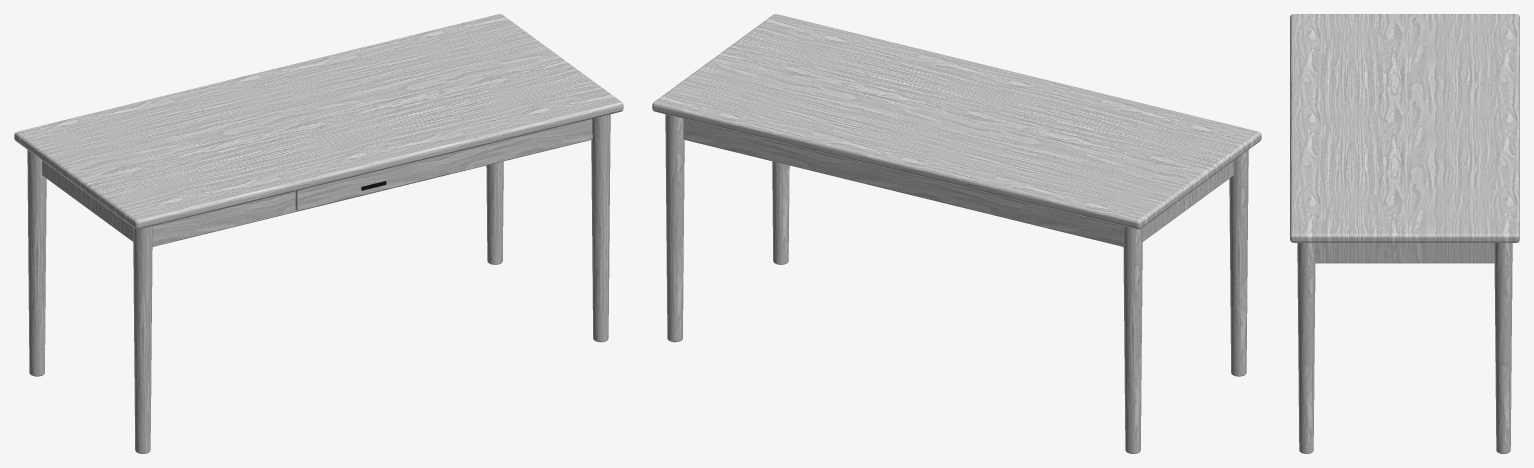
Rendered from desk-1.6m.gltf.
The picture shows the model from 3 angles, left to right: view 1: azimuth 30°, elevation 25°; view 2: azimuth 150°, elevation 25°; view 3: azimuth 270°, elevation 25°; orthographic projection. The views are drawn at different scales.
Parts seen in each view (by area): view 1: desk; view 2: desk; view 3: desk.
Boxes of the visible parts, left/top/right/bottom form: desk: left=14, top=14, right=623, bottom=453; desk: left=652, top=14, right=1261, bottom=453; desk: left=1290, top=14, right=1519, bottom=453.
Size of the model in its own units: 1.6 by 0.75 by 0.7.
2 materials, 1 textured.
